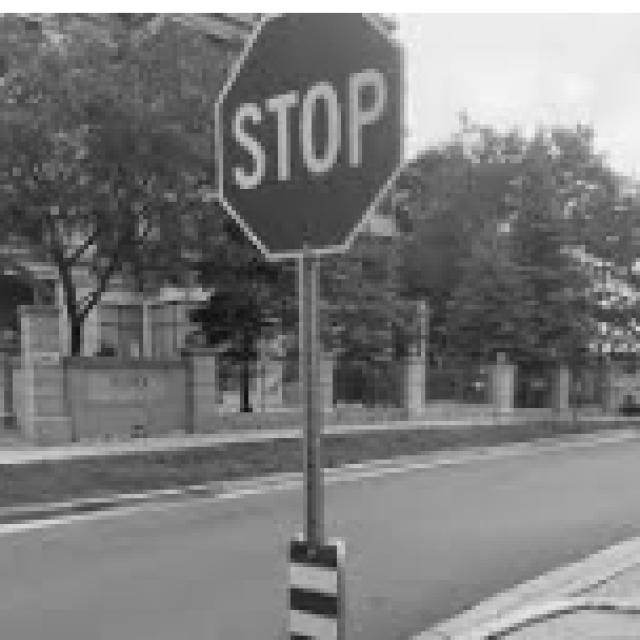Stop-signs: (215, 10, 405, 261)
